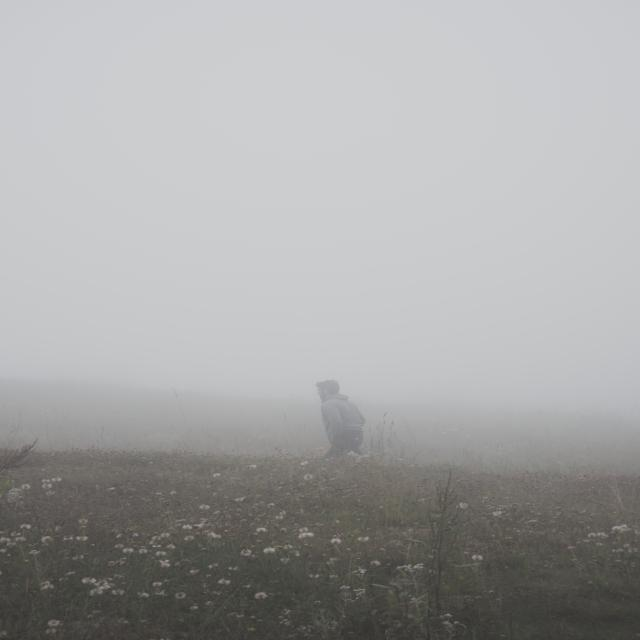adult: (315, 380, 365, 459)
